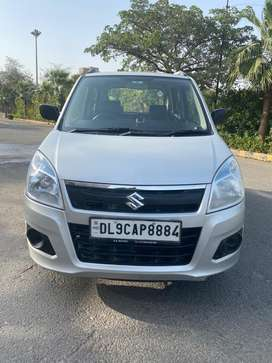DL9CAP8884: (90, 219, 180, 241)
